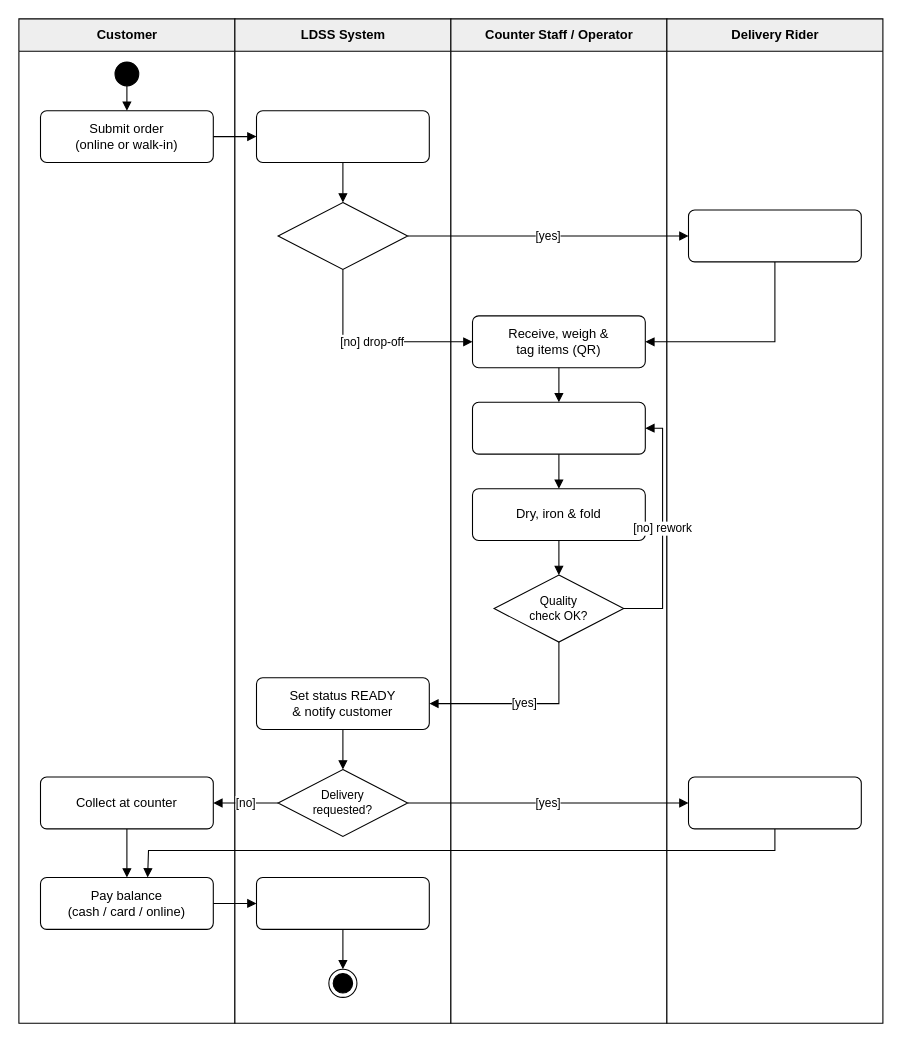
Image size: 902x1042. Some labels were removed from this diagram. Each missing label, with the centre of its shape:
Close order (COMPLETED) & award loyalty points: the point at 342,902
Collect laundry from customer: the point at 774,235
Deliver laundry & capture proof: the point at 774,802
Pickup requested?: the point at 342,235
Validate, price order & generate order no.: the point at 342,136
Wash / dry-clean: the point at 558,427
